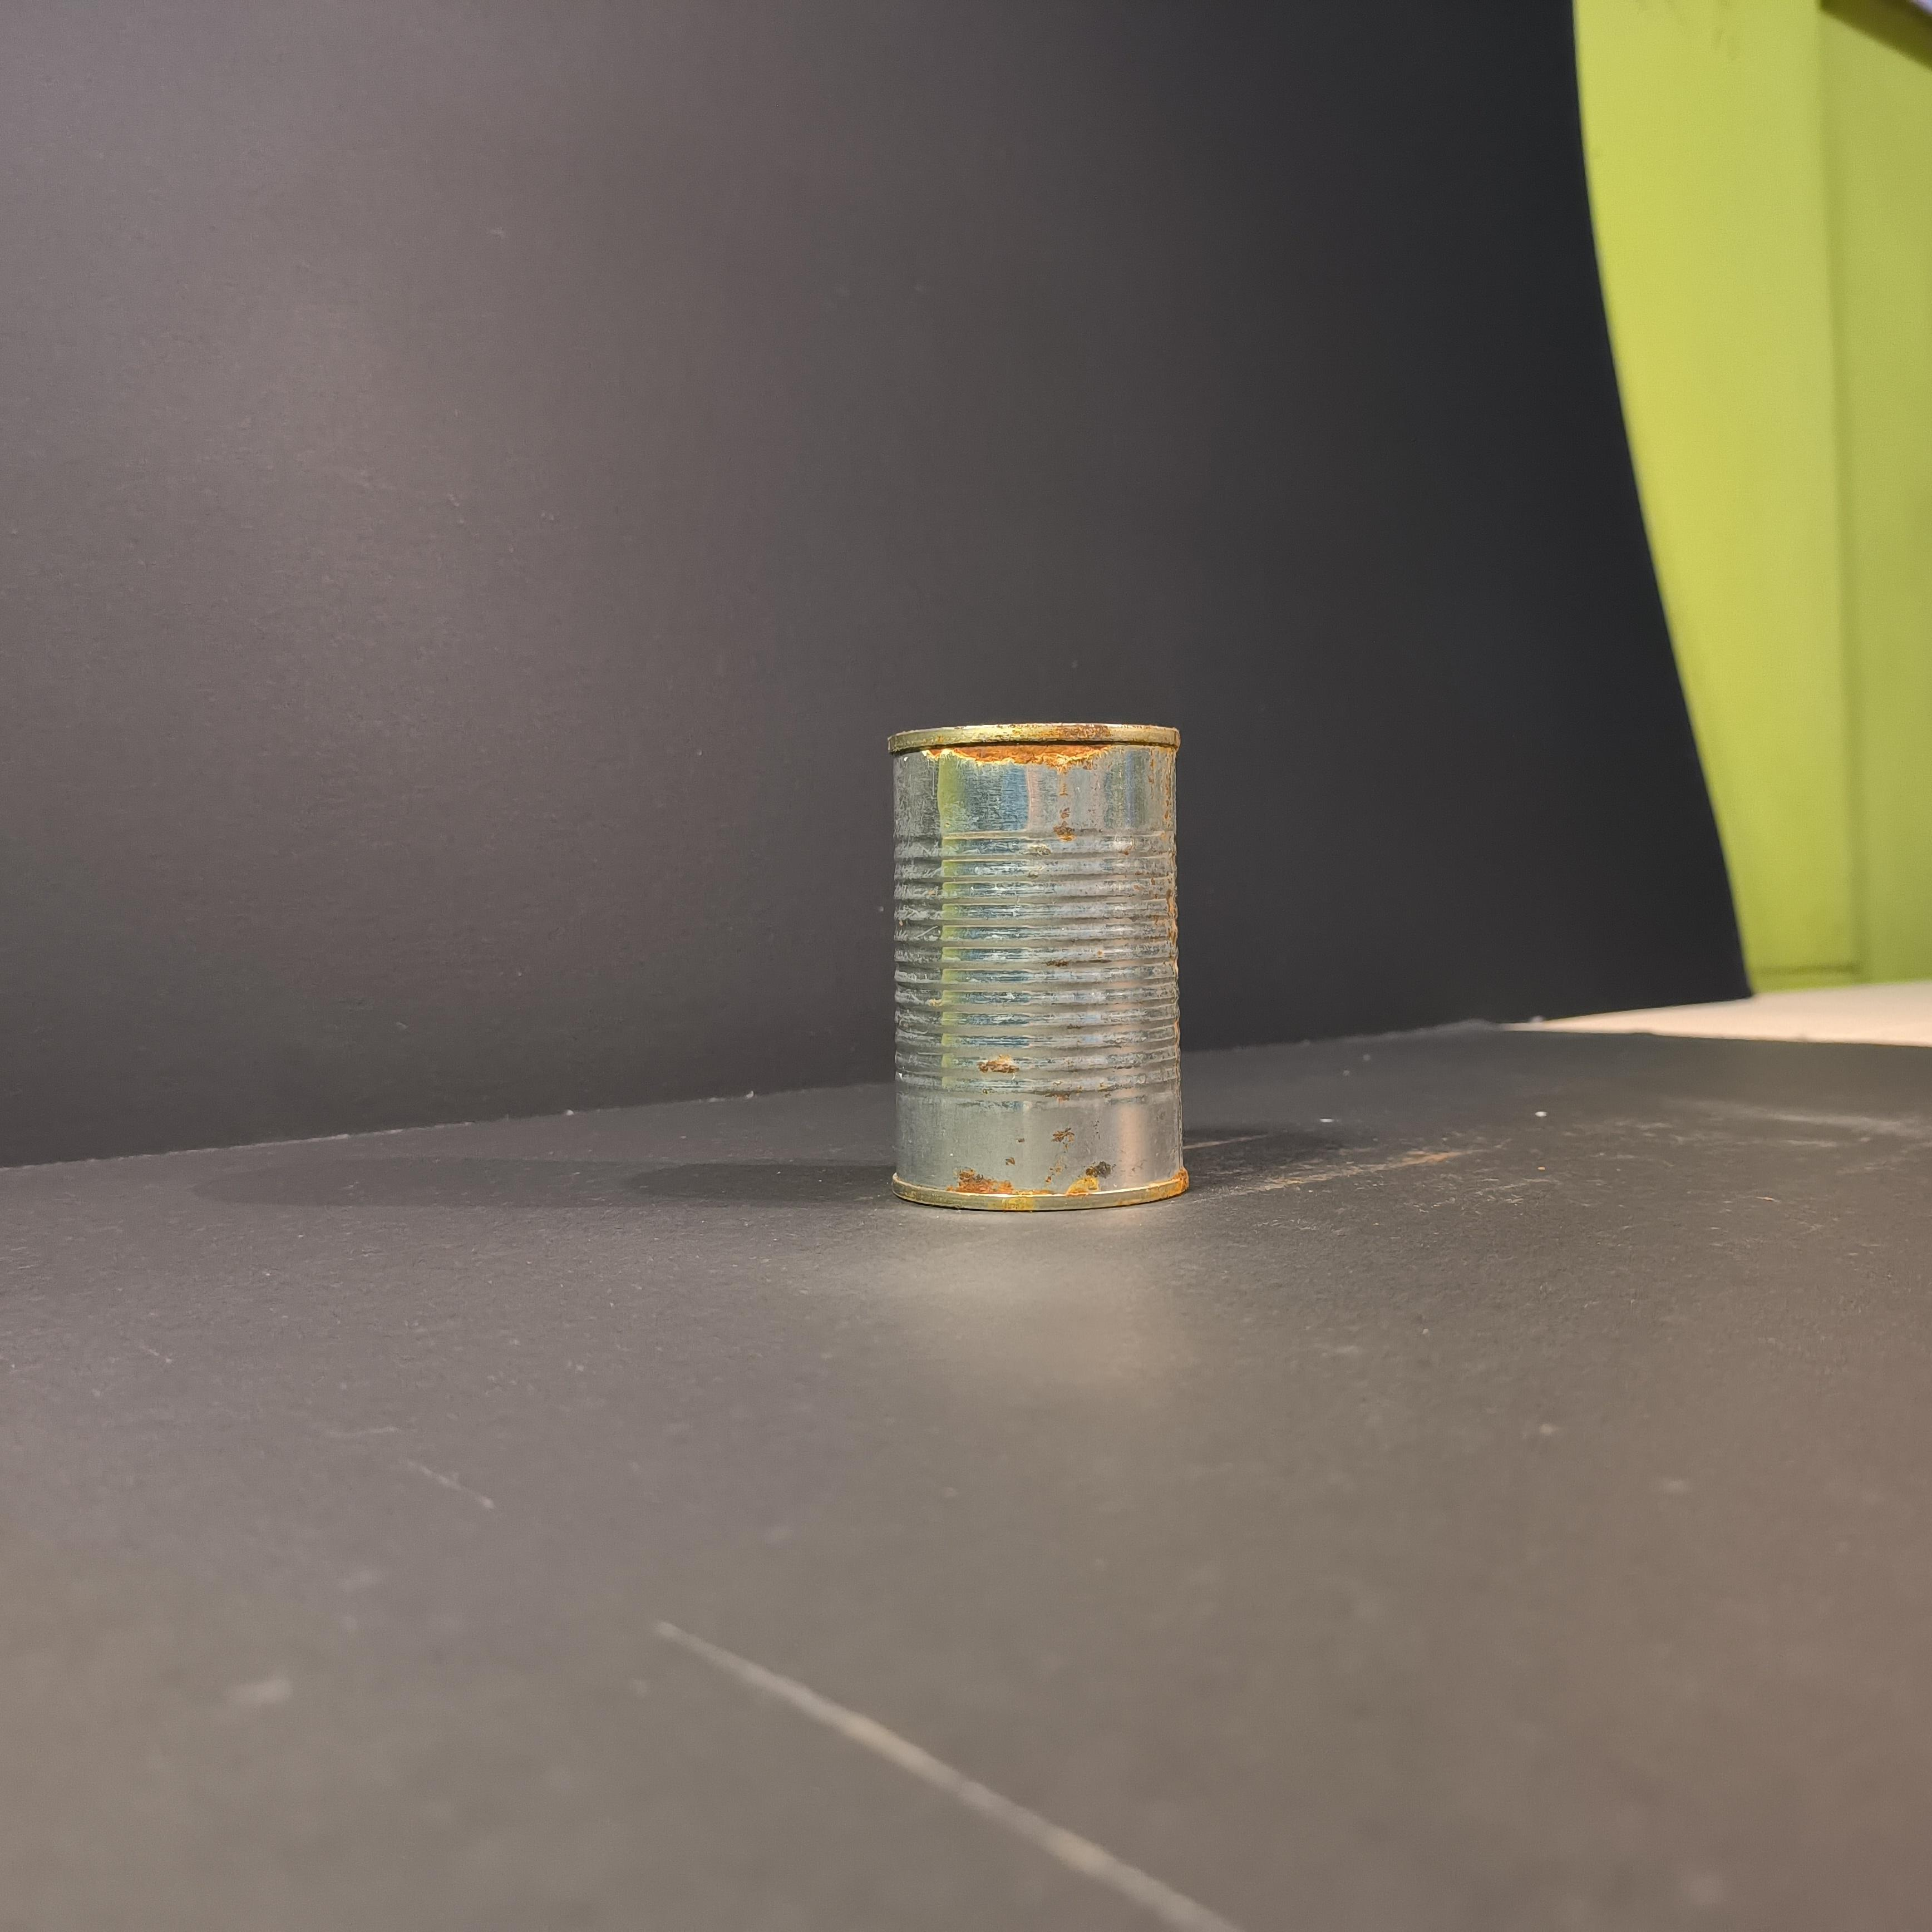Rusted: (856, 695, 1214, 1230)
